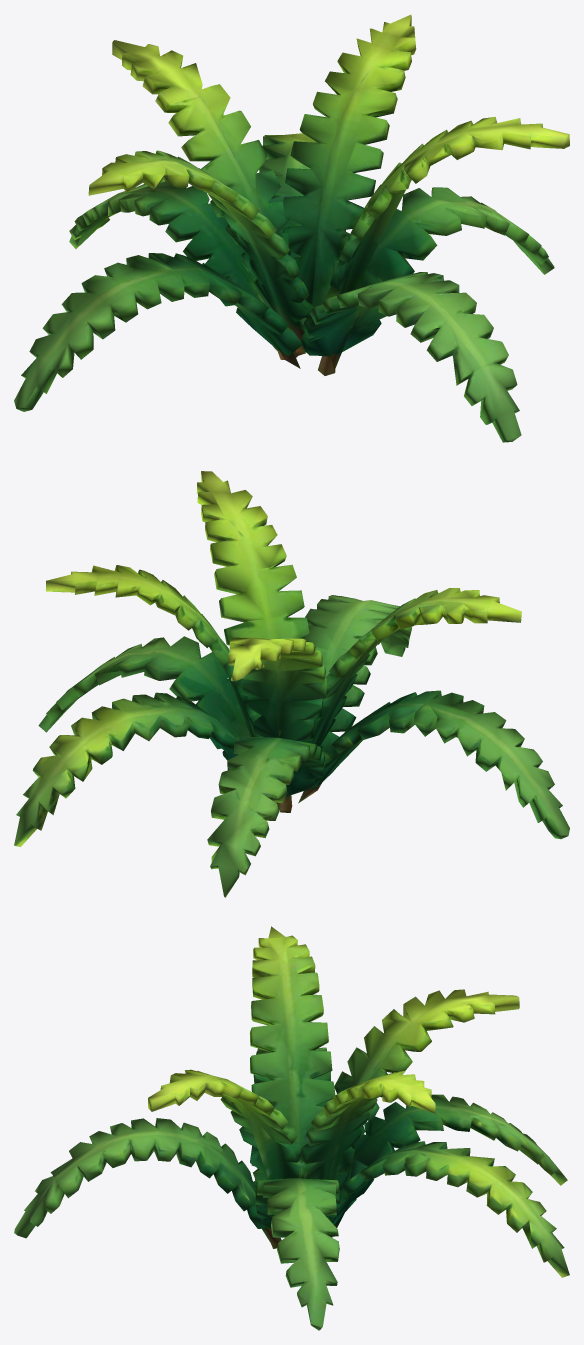
Rendered from fern-a.glb.
3 views of the same model, one above another, from view 1: azimuth 30°, elevation 25°; view 2: azimuth 150°, elevation 25°; view 3: azimuth 270°, elevation 25° (orthographic). The views are drawn at different scales.
Parts seen in each view (by area): view 1: node_0; view 2: node_0; view 3: node_0.
Part boxes in pixels (<box>): node_0: <box>14,14,569,442</box>; node_0: <box>14,471,569,897</box>; node_0: <box>14,926,569,1330</box>.
Bounding box in the file's own units: 1.6 × 0.6982 × 1.6.
1 material, 1 textured.
